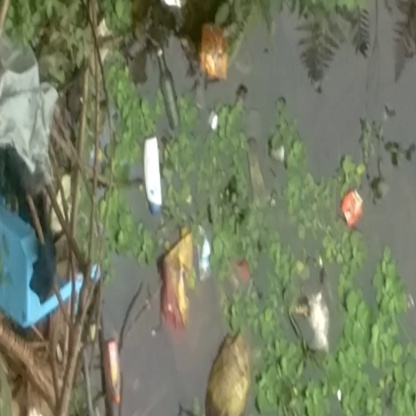bottle: (137, 134, 171, 217), (148, 48, 183, 127)
plastic-bag: (153, 231, 198, 331)
